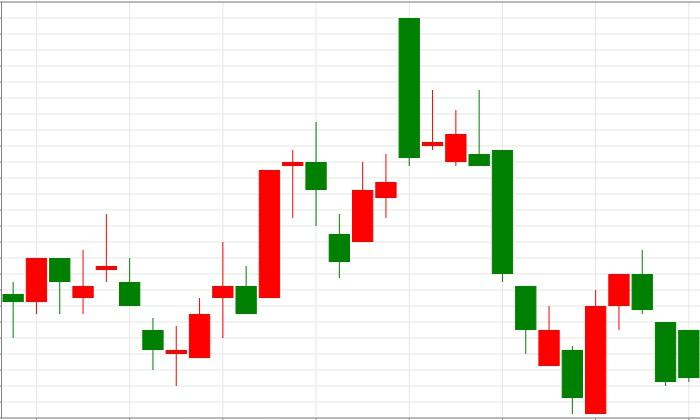bullish_engulfing_rise: (469, 89, 607, 415)
